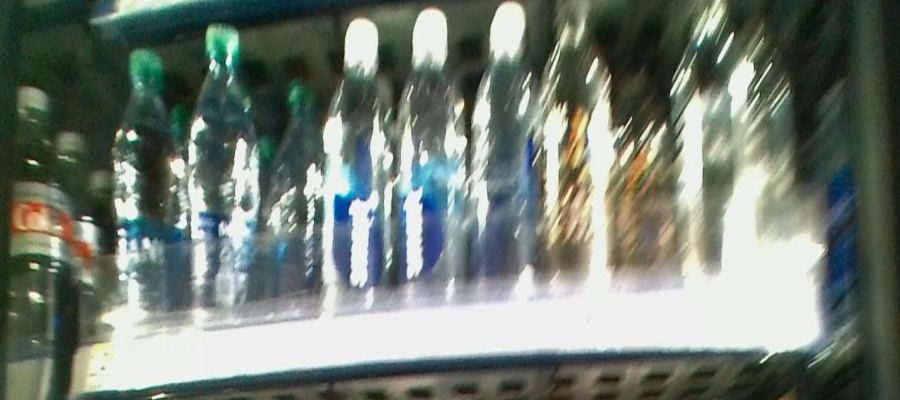bottle: (399, 12, 470, 315), (111, 31, 184, 319), (188, 22, 256, 325), (476, 3, 540, 314), (326, 17, 392, 312), (546, 9, 611, 300), (268, 68, 320, 316)
